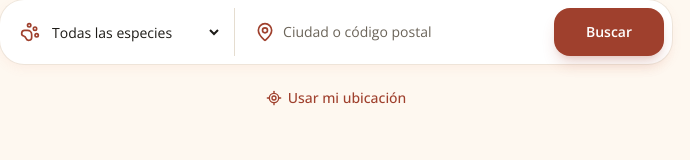
Test: HeroSearch — buscador del hero › ciudad no encontrada muestra error accesible y no navega
Type "Villainventada" into the field with placeholder "Ciudad o código postal" at (411, 32), box [283,22,538,42]
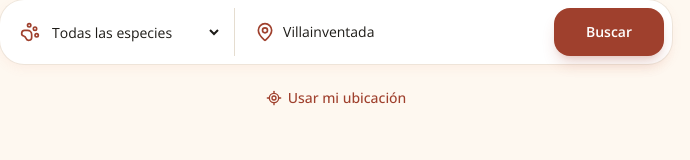
Click the button "Buscar" at (609, 32), box [554,8,664,56]
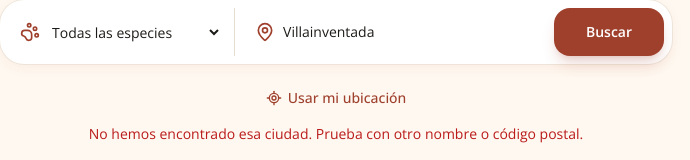
Check: the message reads "No hemos encontrado esa ciudad. Prueba con otro nombre o código postal.", box [89,124,583,143]
